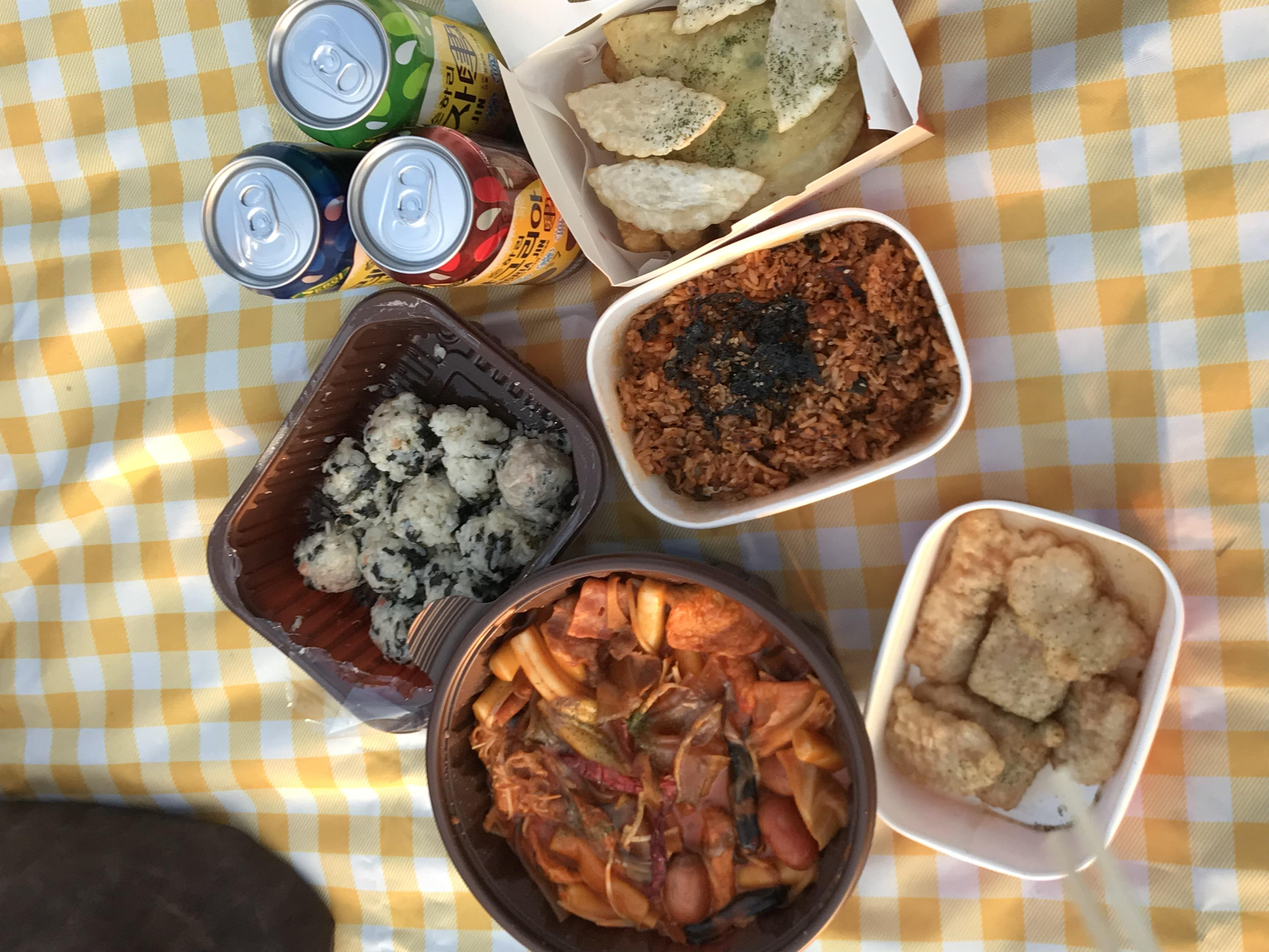Bottle: (887, 261, 1100, 438), (1071, 200, 1269, 383), (872, 151, 1079, 296)
Lunch Box: (0, 321, 532, 657), (293, 156, 884, 455), (886, 356, 1269, 699), (565, 441, 991, 729), (97, 649, 602, 889)
